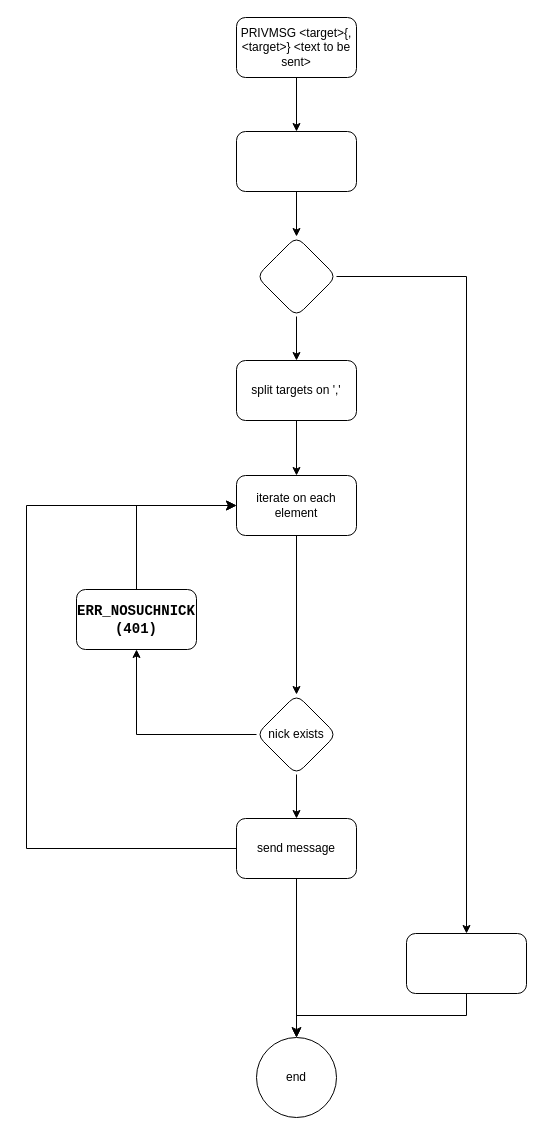
Image size: 551x1135. Some labels were removed from this diagram. Each missing label, with the centre of its shape:
"ERR_NOTEXTTOSEND (412)" belongs at point (466, 963).
"split on first space" belongs at point (296, 161).
"text to be sent != 0" belongs at point (296, 276).
